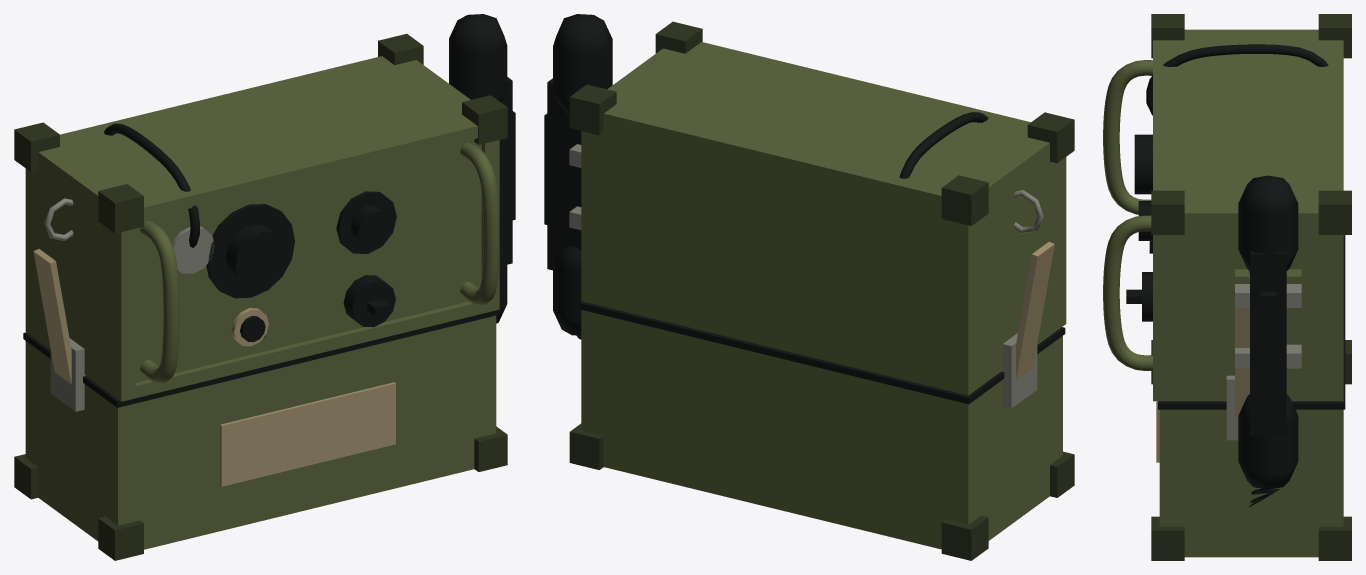
The model's file is field-radio-viewmodel.glb.
The picture shows the model from 3 angles, left to right: view 1: azimuth 30°, elevation 25°; view 2: azimuth 150°, elevation 25°; view 3: azimuth 270°, elevation 25°; orthographic projection. The views are drawn at different scales.
Parts seen in each view (by area): view 1: Mesh_BodyTop, Mesh_BodyBottom, Mesh_BatteryLabel, Mesh_FlangeTop, Mesh_FlangeBottom, Mesh_Earpiece, Mesh_FlangeLeft, Mesh_TuningDialBase, Mesh_GuardR, Mesh_GuardL, Mesh_TuningDialKnob, Mesh_SeamGasket (+17 smaller); view 2: Mesh_BodyTop, Mesh_BodyBottom, Mesh_HandsetBody, Mesh_Earpiece, Mesh_SeamGasket, Mesh_FlangeTop, Mesh_StrapL1, Mesh_Mouthpiece, Mesh_BumperTLB, Mesh_FlangeLeft, Mesh_BumperTRB, Mesh_BumperBLB (+6 smaller); view 3: Mesh_BodyTop, Mesh_BodyBottom, Mesh_HandsetBody, Mesh_Earpiece, Mesh_Mouthpiece, Mesh_GuardR, Mesh_FlangeRight, Mesh_GuardL, Mesh_FlangeTop, Mesh_PTTLever, Mesh_WhipAntenna, Mesh_SeamGasket (+14 smaller).
Part boxes in pixels (bbox=[...]): Mesh_BodyTop: bbox=[25, 56, 481, 396]; Mesh_BodyBottom: bbox=[25, 315, 496, 549]; Mesh_BatteryLabel: bbox=[220, 382, 395, 486]; Mesh_FlangeTop: bbox=[144, 118, 477, 219]; Mesh_FlangeBottom: bbox=[111, 298, 499, 401]; Mesh_Earpiece: bbox=[449, 14, 507, 101]; Mesh_FlangeLeft: bbox=[111, 228, 135, 401]; Mesh_TuningDialBase: bbox=[206, 204, 294, 298]; Mesh_GuardR: bbox=[460, 142, 499, 305]; Mesh_GuardL: bbox=[140, 220, 179, 383]; Mesh_TuningDialKnob: bbox=[225, 224, 287, 286]; Mesh_SeamGasket: bbox=[23, 310, 498, 407]; Mesh_BodyTop: bbox=[581, 48, 1062, 395]; Mesh_BodyBottom: bbox=[581, 310, 1062, 549]; Mesh_HandsetBody: bbox=[547, 78, 581, 270]; Mesh_Earpiece: bbox=[553, 14, 612, 115]; Mesh_SeamGasket: bbox=[579, 301, 1065, 404]; Mesh_FlangeTop: bbox=[691, 42, 1030, 130]; Mesh_StrapL1: bbox=[1016, 241, 1054, 380]; Mesh_Mouthpiece: bbox=[553, 246, 581, 335]; Mesh_BumperTLB: bbox=[941, 175, 988, 225]; Mesh_FlangeLeft: bbox=[1056, 157, 1066, 330]; Mesh_BumperTRB: bbox=[569, 84, 616, 135]; Mesh_BumperBLB: bbox=[941, 515, 988, 560]; Mesh_BodyTop: bbox=[1159, 29, 1343, 401]; Mesh_BodyBottom: bbox=[1159, 409, 1343, 557]; Mesh_HandsetBody: bbox=[1250, 251, 1286, 435]; Mesh_Earpiece: bbox=[1238, 175, 1298, 270]; Mesh_Mouthpiece: bbox=[1238, 394, 1298, 489]; Mesh_GuardR: bbox=[1103, 215, 1152, 370]; Mesh_FlangeRight: bbox=[1153, 235, 1172, 401]; Mesh_GuardL: bbox=[1103, 60, 1152, 214]; Mesh_FlangeTop: bbox=[1153, 40, 1172, 190]; Mesh_PTTLever: bbox=[1260, 292, 1276, 401]; Mesh_WhipAntenna: bbox=[1146, 44, 1328, 115]; Mesh_SeamGasket: bbox=[1158, 235, 1345, 409].
Size of the model in its own units: 0.3287 by 0.263 by 0.1488.
Materials: 2 (2 with a texture image).
